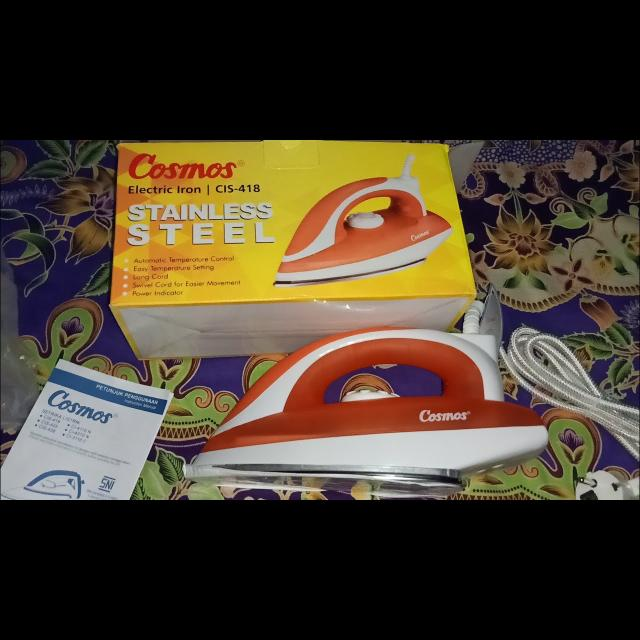Clothes-Iron: (228, 342, 526, 482)
